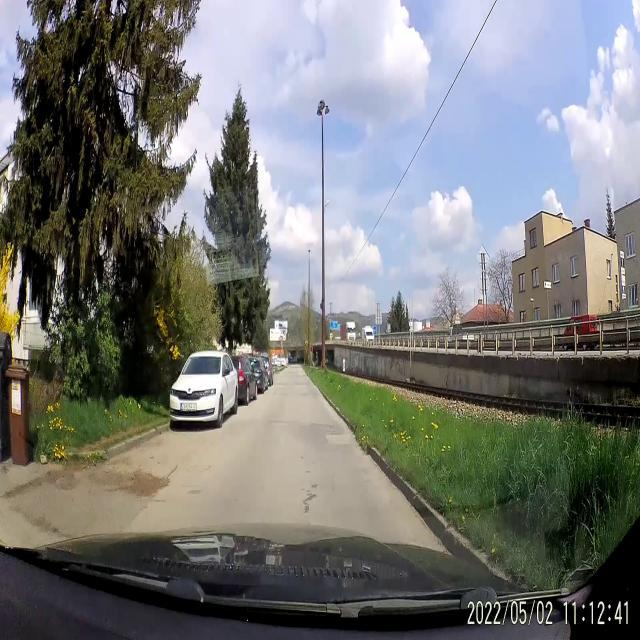Pothole: (17, 458, 179, 536)
